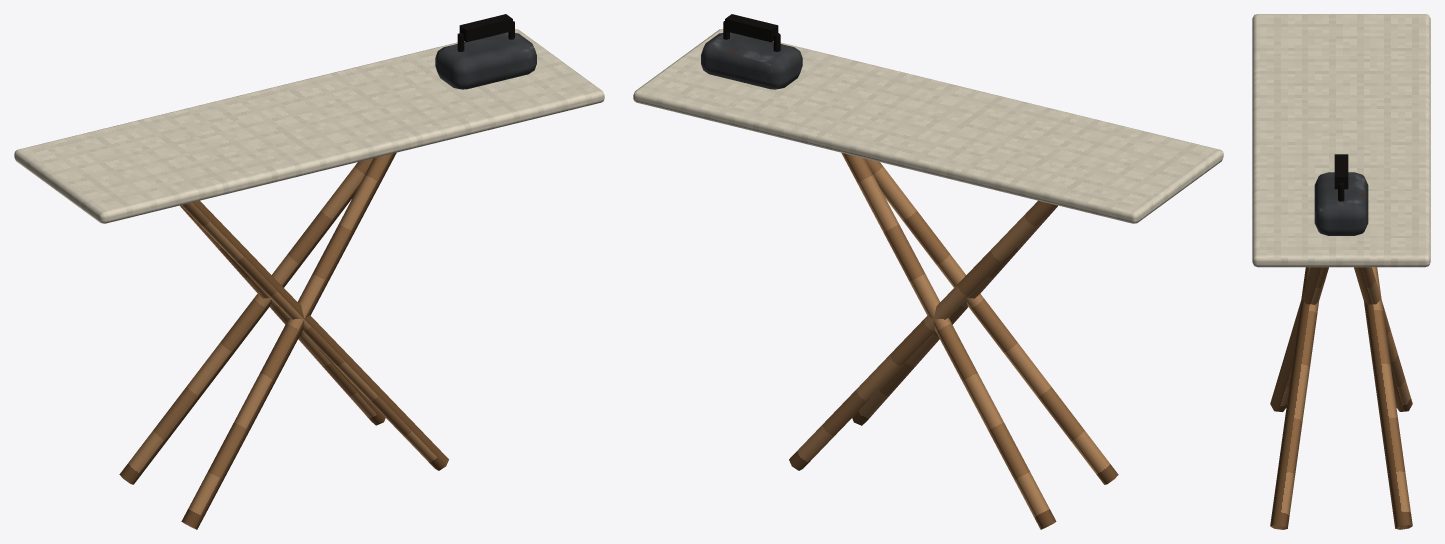
File: ironingBoard.glb
The picture shows the model from 3 angles, left to right: view 1: azimuth 30°, elevation 25°; view 2: azimuth 150°, elevation 25°; view 3: azimuth 270°, elevation 25°; orthographic projection.
Parts seen in each view (by area): view 1: ironingBoard, dyn_wood_variant; view 2: ironingBoard, dyn_wood_variant; view 3: ironingBoard, dyn_wood_variant.
Part boxes in pixels (left/top/right/bottom): ironingBoard: left=14, top=14, right=604, bottom=223; dyn_wood_variant: left=119, top=152, right=448, bottom=529; ironingBoard: left=633, top=14, right=1223, bottom=223; dyn_wood_variant: left=789, top=152, right=1118, bottom=529; ironingBoard: left=1252, top=14, right=1430, bottom=267; dyn_wood_variant: left=1270, top=267, right=1412, bottom=529.
Size of the model in its own units: 1.3 by 0.9975 by 0.4001.
4 materials, 3 textured.
